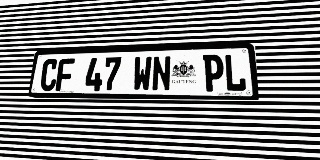4: (84, 58, 104, 91)
7: (102, 57, 122, 91)
C: (39, 59, 59, 91)
F: (55, 58, 75, 91)
L: (224, 54, 247, 92)
N: (152, 56, 171, 91)
P: (203, 54, 224, 92)
W: (132, 56, 152, 91)
